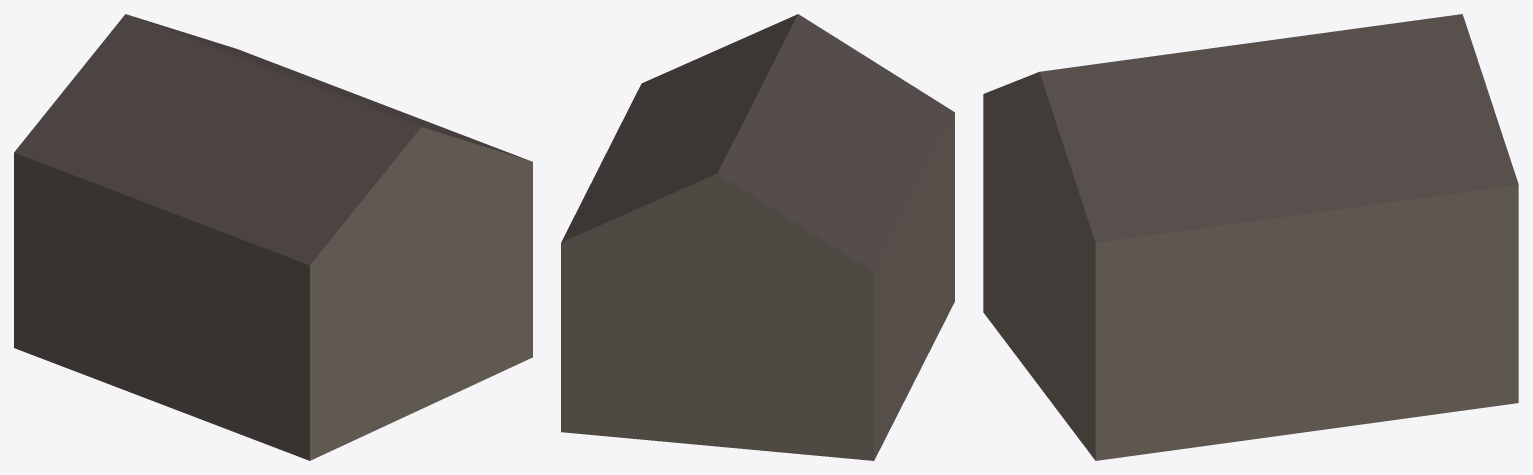
3 renders of one model, left to right at view 1: azimuth 30°, elevation 25°; view 2: azimuth 150°, elevation 25°; view 3: azimuth 270°, elevation 25°, orthographic. The views are drawn at different scales.
Parts seen in each view (by area): view 1: HP-w1367350970; view 2: HP-w1367350970; view 3: HP-w1367350970.
Part boxes in pixels (x1,y1,x2,y2): HP-w1367350970: (14,14,532,460); HP-w1367350970: (561,14,954,460); HP-w1367350970: (983,14,1518,460).
Bounding box in the file's own units: 12.2 × 8.66 × 13.36.
